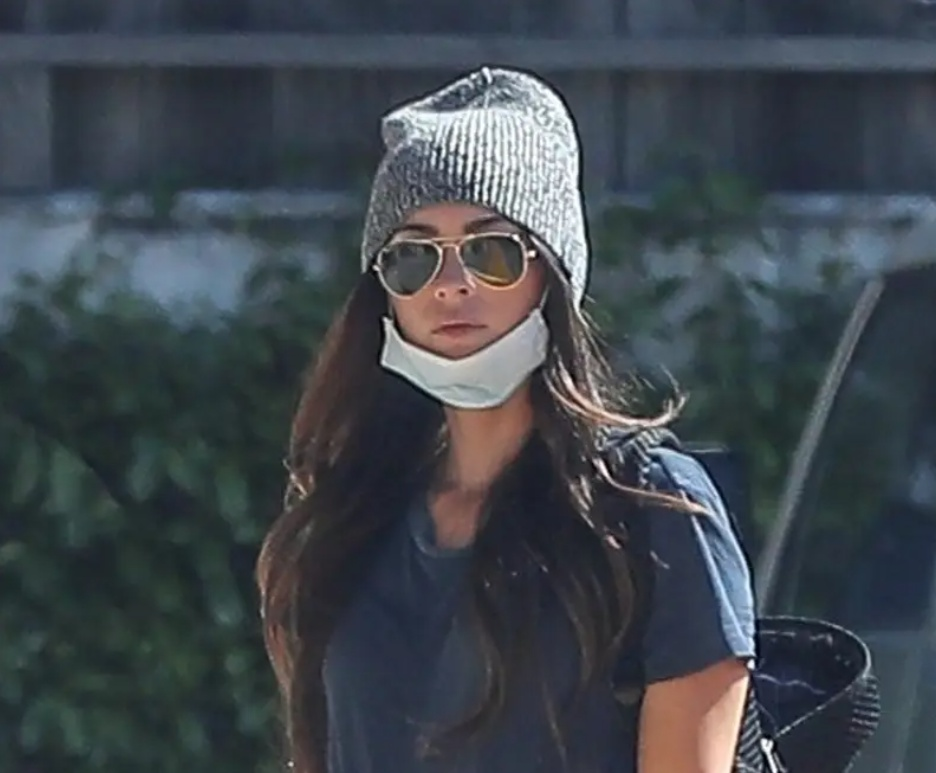mouth: (426, 317, 488, 341)
nose: (430, 278, 475, 303)
